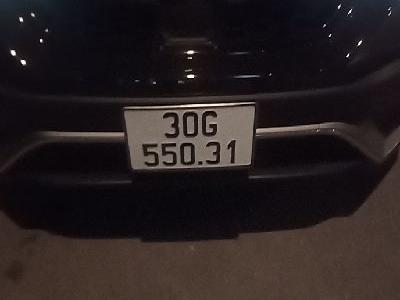number: (122, 105, 254, 171)
